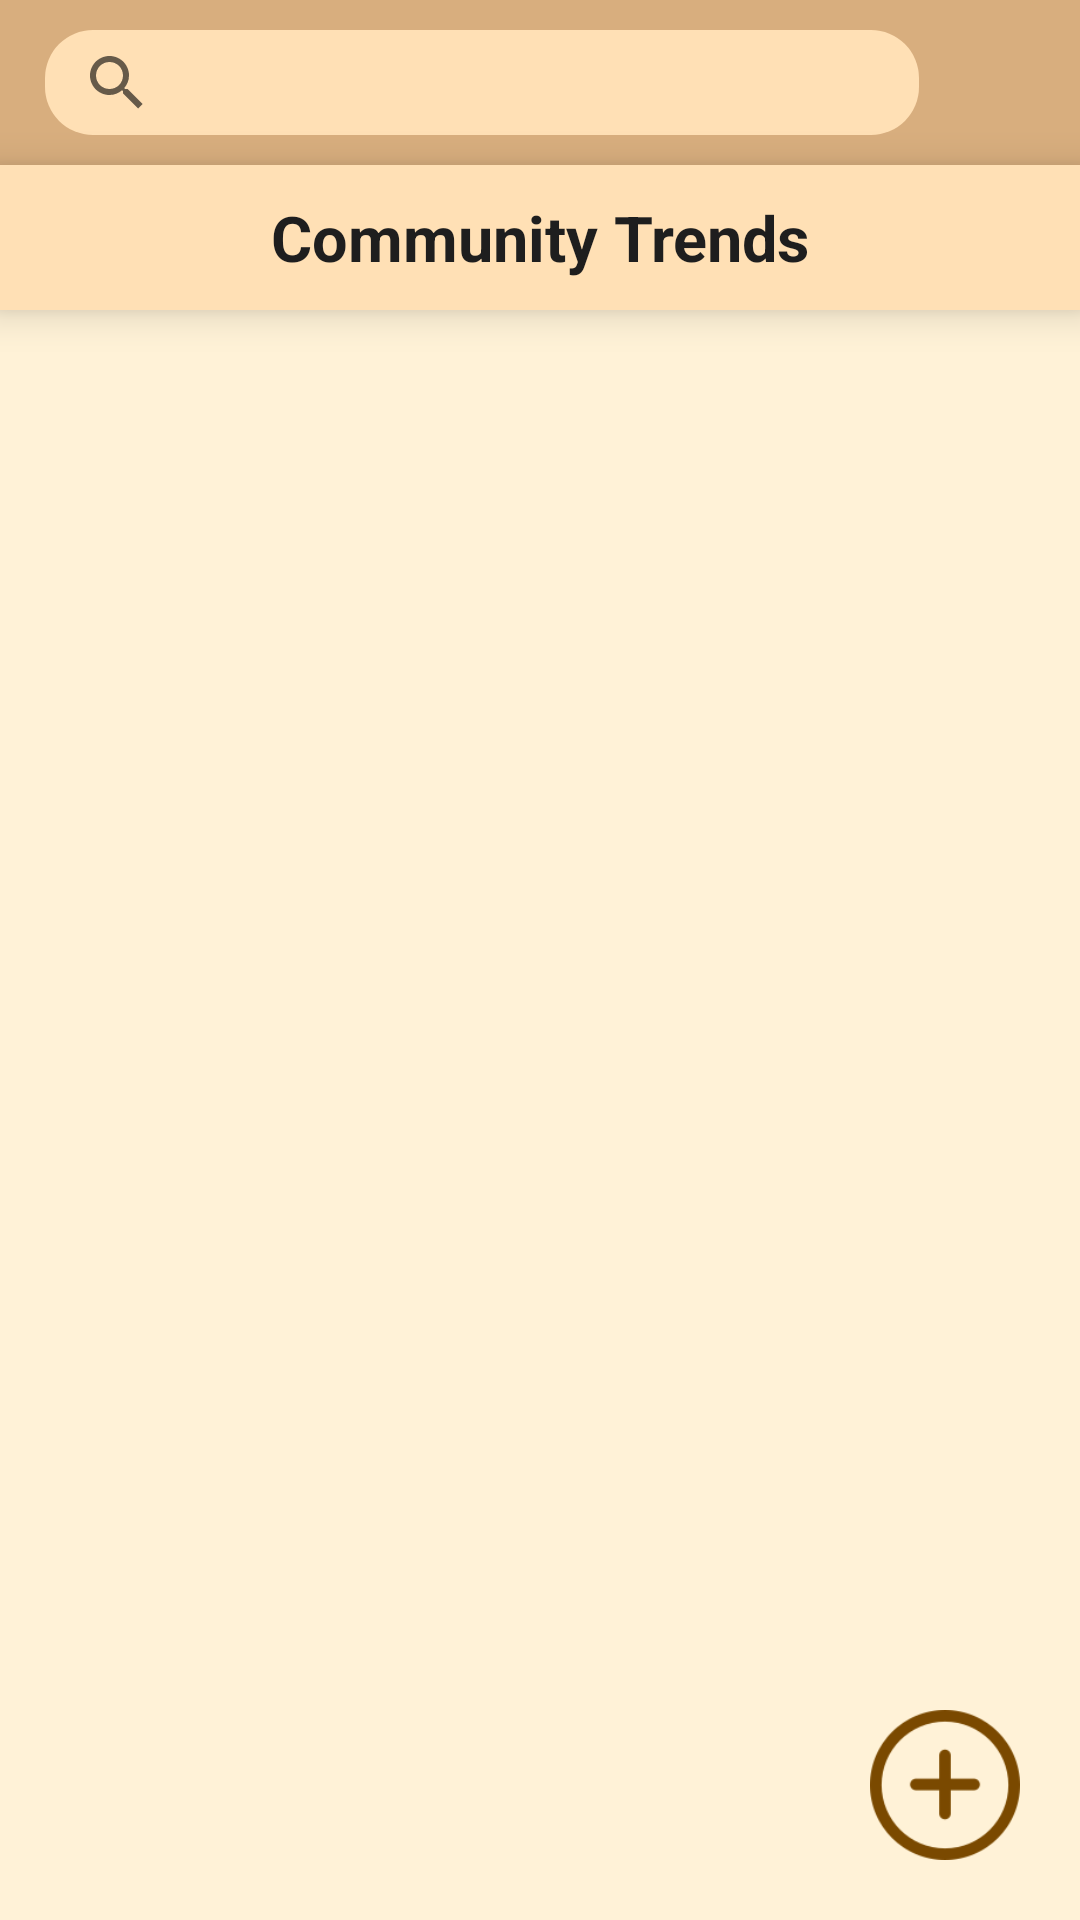

Icons on this 1080w x 1920h Android screen, each with the point to tap as [x,y]:
cinnamonadd: [945,1785]
